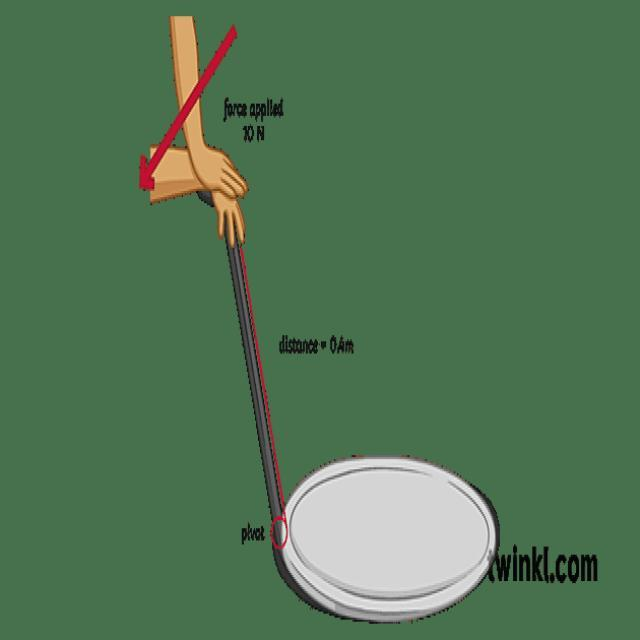Linggis: (214, 248, 290, 544)
